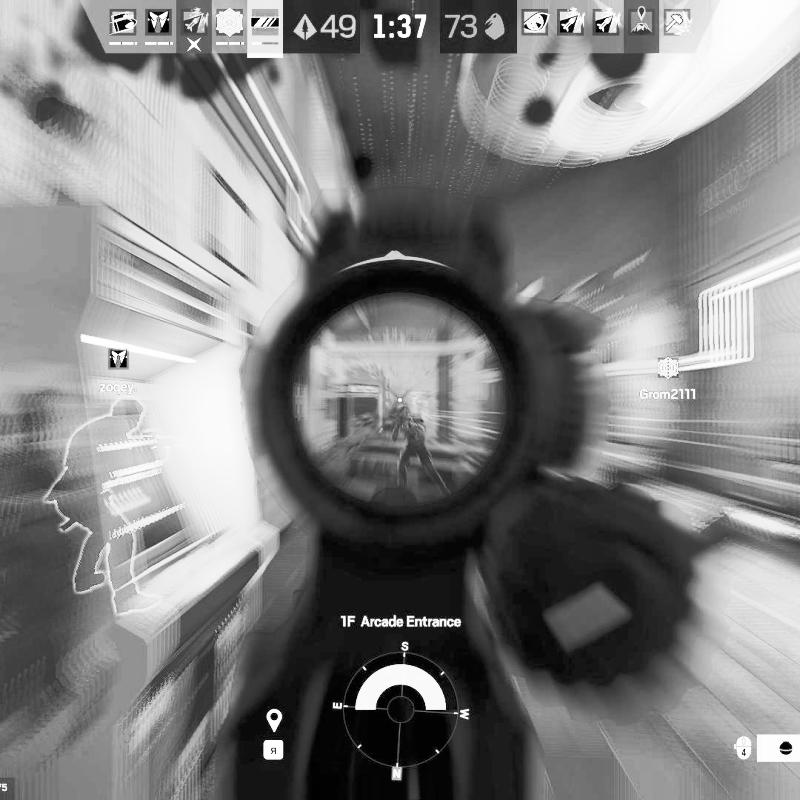Character: (391, 405, 452, 499)
Friend_label: (638, 355, 698, 401), (99, 345, 141, 396)
Head: (398, 405, 408, 417)
